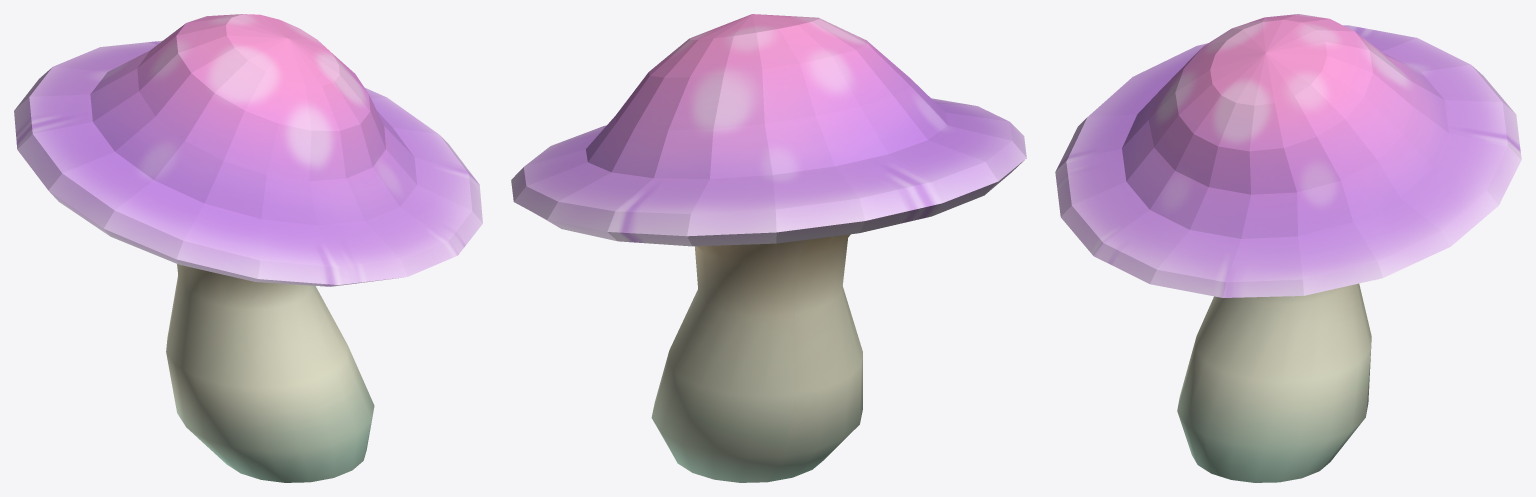
Rendered from Mushroom_1.FBX.
3 views of the same model, side by side, from view 1: azimuth 30°, elevation 25°; view 2: azimuth 150°, elevation 25°; view 3: azimuth 270°, elevation 25° (orthographic). The views are drawn at different scales.
Visible parts, largest first — view 1: Cylinder003; view 2: Cylinder003; view 3: Cylinder003.
Part boxes in pixels (box(x1,y1,x2,y2)): Cylinder003: box(14, 14, 482, 482); Cylinder003: box(511, 14, 1026, 482); Cylinder003: box(1055, 14, 1521, 482).
Size of the model in its own units: 20.72 by 20.15 by 20.85.
